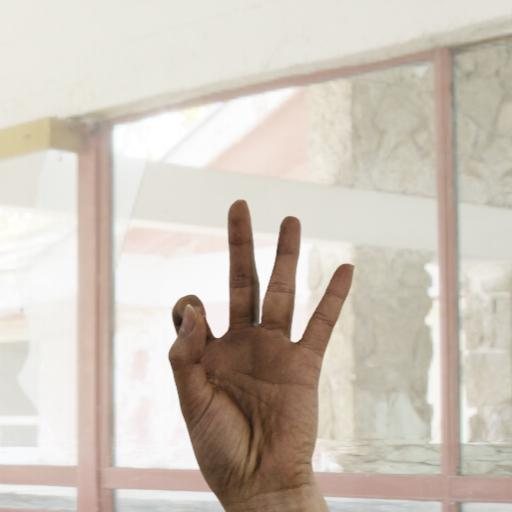F: (148, 186, 369, 512)
